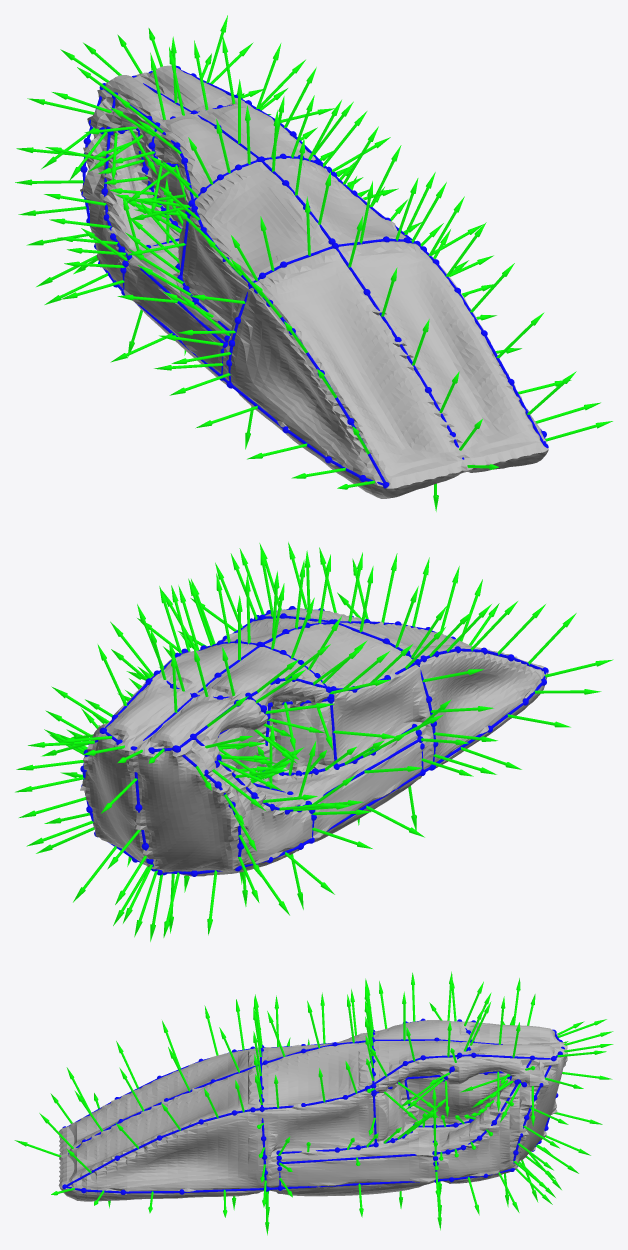
File: t2f_hand_vacuum.gltf
3 views of the same model, one above another, from view 1: azimuth 30°, elevation 25°; view 2: azimuth 150°, elevation 25°; view 3: azimuth 270°, elevation 25° (orthographic). The views are drawn at different scales.
Size of the model in its own units: 0.5217 by 0.4443 by 1.1.
